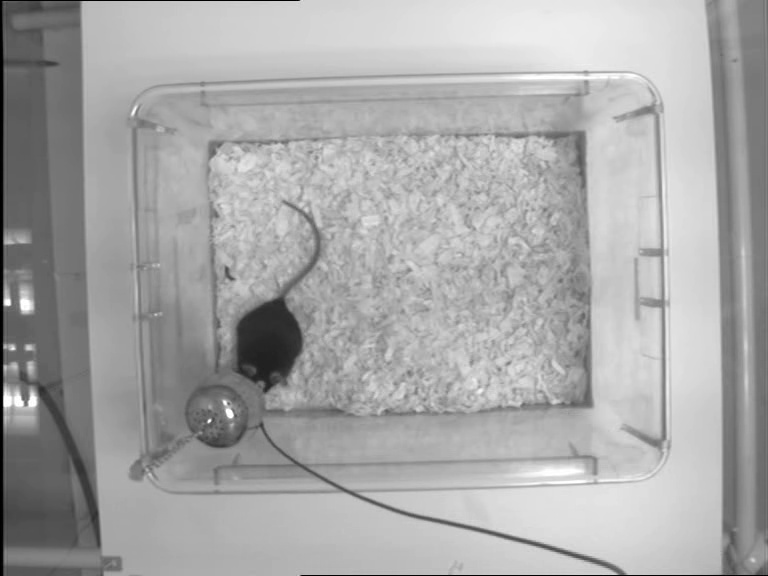mice: (227, 198, 326, 390)
